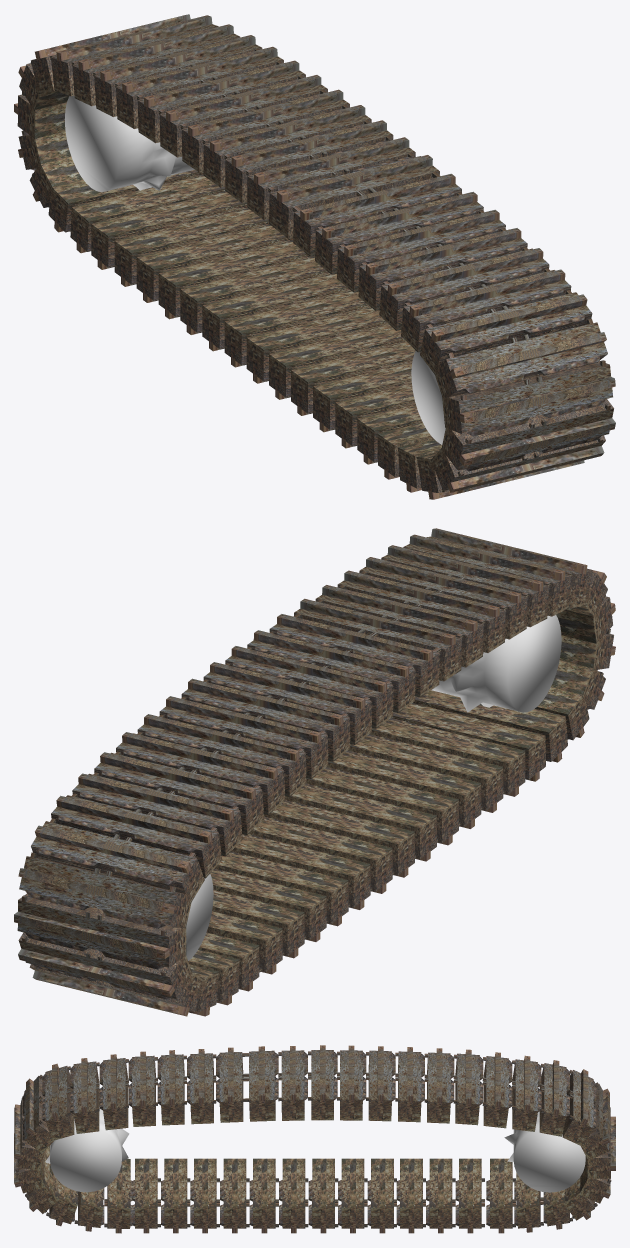
Rendered from ExcavatorV3.3ManualTrackAnim.fbx.
The picture shows the model from 3 angles, top to bottom: view 1: azimuth 30°, elevation 25°; view 2: azimuth 150°, elevation 25°; view 3: azimuth 270°, elevation 25°; orthographic projection. The views are drawn at different scales.
Visible parts, largest first — view 1: manualTrack.025, leftRearWheel, manualTrack.024, manualTrack.023, manualTrack.026, manualTrack.031, manualTrack.045, manualTrack.032, manualTrack.033, manualTrack.036, manualTrack.035, manualTrack.034 (+35 smaller); view 2: manualTrack.004, leftFrontWheel, manualTrack.003, manualTrack.002, manualTrack.001, manualTrack.005, manualTrack, manualTrack.037, manualTrack.038, manualTrack.040, manualTrack.039, manualTrack.045 (+35 smaller); view 3: leftFrontWheel, leftRearWheel, manualTrack.045, manualTrack.023, manualTrack.031, manualTrack.001, manualTrack.032, manualTrack, manualTrack.037, manualTrack.038, manualTrack.039, manualTrack.002 (+35 smaller).
Boxes of the visible parts, box(x1,y1,x2,y2) form: manualTrack.025: box(442, 360, 615, 436); leftRearWheel: box(64, 95, 194, 192); manualTrack.024: box(434, 318, 607, 398); manualTrack.023: box(420, 290, 592, 375); manualTrack.026: box(441, 399, 615, 471); manualTrack.031: box(401, 268, 571, 352); manualTrack.045: box(269, 155, 439, 238); manualTrack.032: box(379, 247, 549, 330); manualTrack.033: box(358, 228, 527, 310); manualTrack.036: box(293, 173, 461, 256); manualTrack.035: box(315, 191, 483, 274); manualTrack.034: box(337, 209, 505, 292); manualTrack.004: box(14, 894, 186, 969); leftFrontWheel: box(431, 615, 561, 712); manualTrack.003: box(18, 852, 191, 928); manualTrack.002: box(31, 818, 204, 904); manualTrack.001: box(51, 793, 222, 878); manualTrack.005: box(18, 932, 191, 999); manualTrack: box(72, 772, 242, 856); manualTrack.037: box(94, 751, 264, 834); manualTrack.038: box(116, 732, 285, 814); manualTrack.040: box(159, 696, 328, 778); manualTrack.039: box(137, 714, 306, 796); manualTrack.045: box(269, 614, 439, 697); leftFrontWheel: box(45, 1107, 129, 1192); leftRearWheel: box(504, 1111, 585, 1192); manualTrack.045: box(245, 1046, 278, 1121); manualTrack.023: box(42, 1063, 74, 1140); manualTrack.031: box(70, 1058, 99, 1133); manualTrack.001: box(539, 1060, 569, 1136); manualTrack.032: box(99, 1054, 128, 1130); manualTrack: box(512, 1055, 541, 1131); manualTrack.037: box(482, 1052, 512, 1128); manualTrack.038: box(453, 1049, 483, 1125); manualTrack.039: box(424, 1048, 454, 1123); manualTrack.002: box(562, 1069, 596, 1145).
Size of the model in its own units: 165 by 217 by 851.
